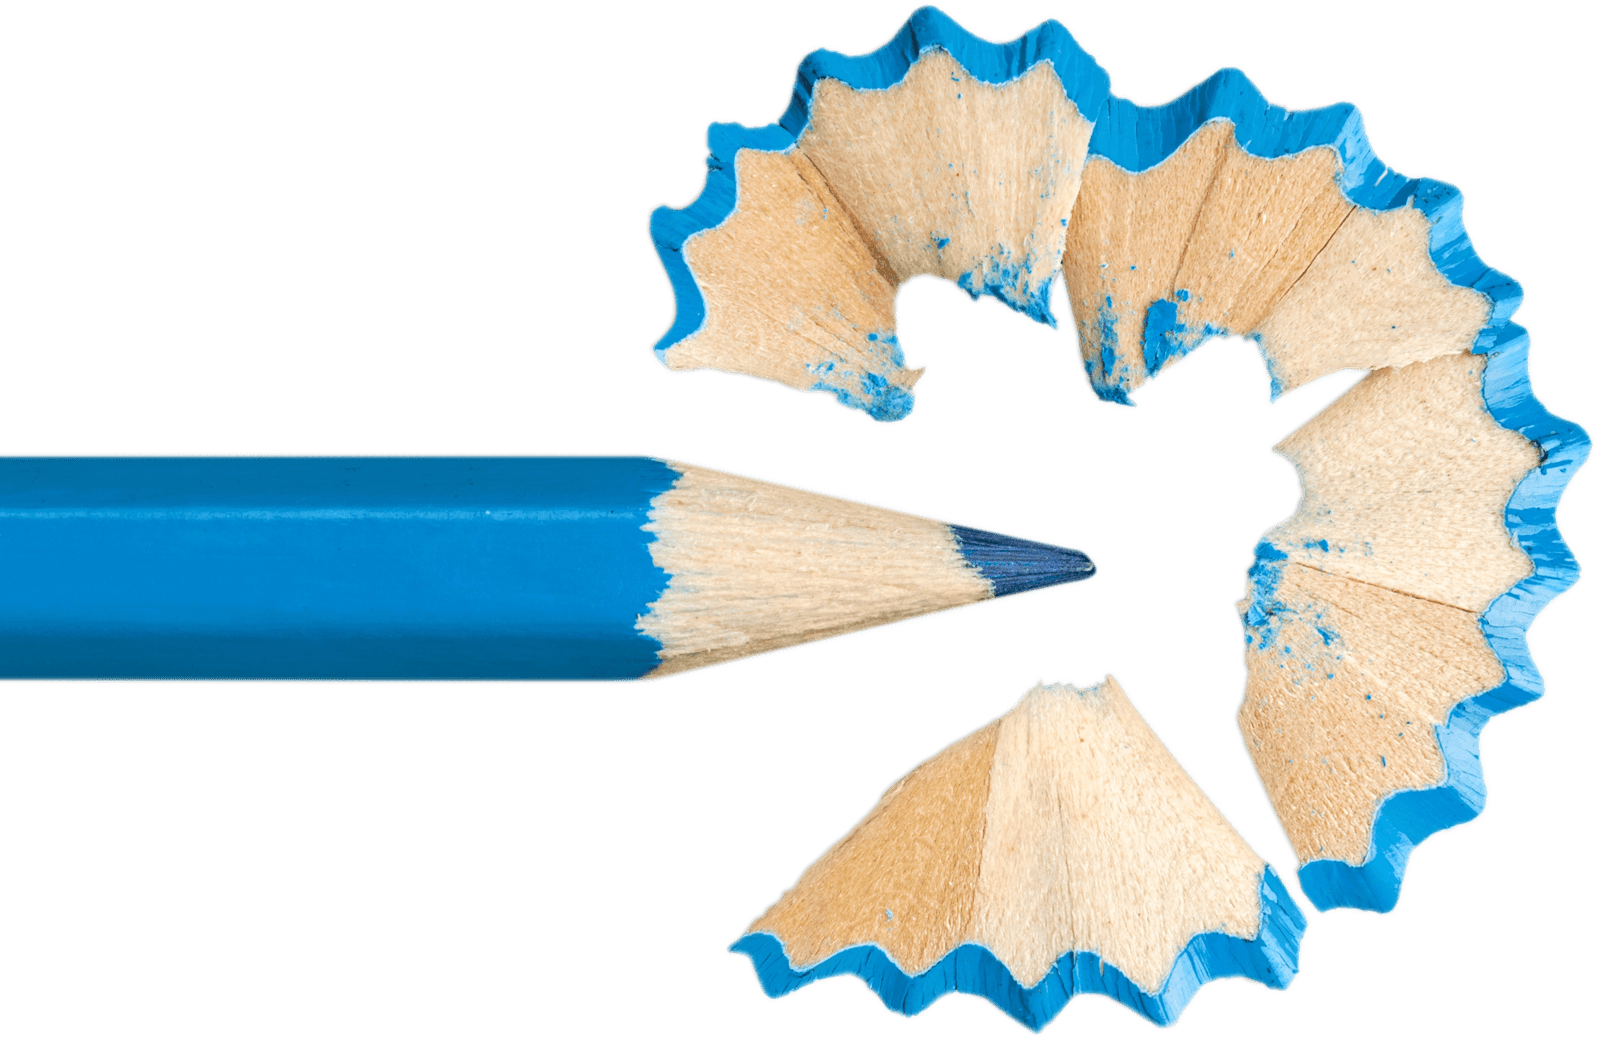pencil: (1, 439, 1176, 693)
